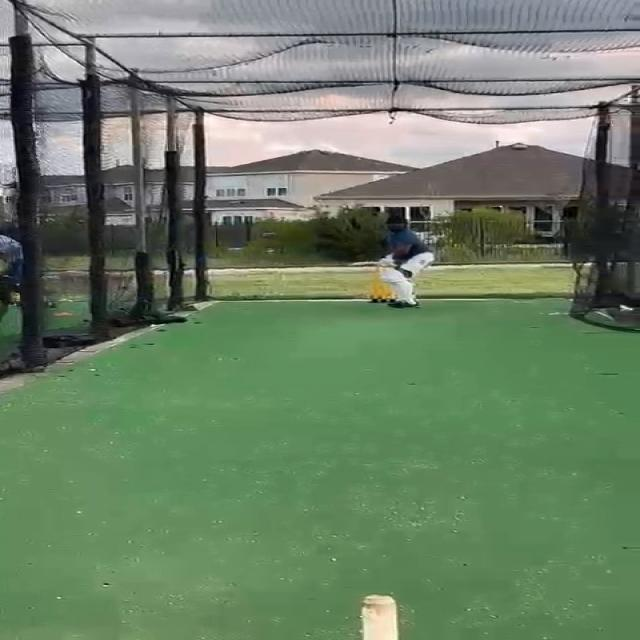batsman: (346, 212, 438, 310)
